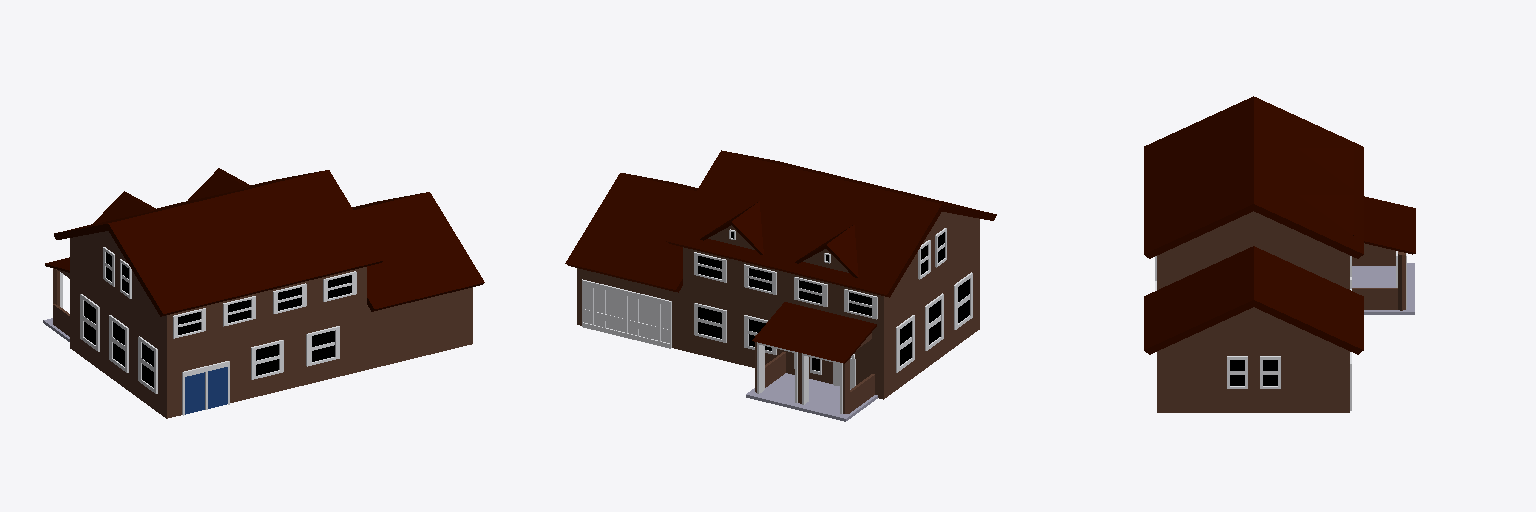
The model's file is House4.model.obj.
3 renders of one model, left to right at view 1: azimuth 30°, elevation 25°; view 2: azimuth 150°, elevation 25°; view 3: azimuth 270°, elevation 25°, orthographic.
Size of the model in its own units: 5.77 by 2.79 by 4.24.